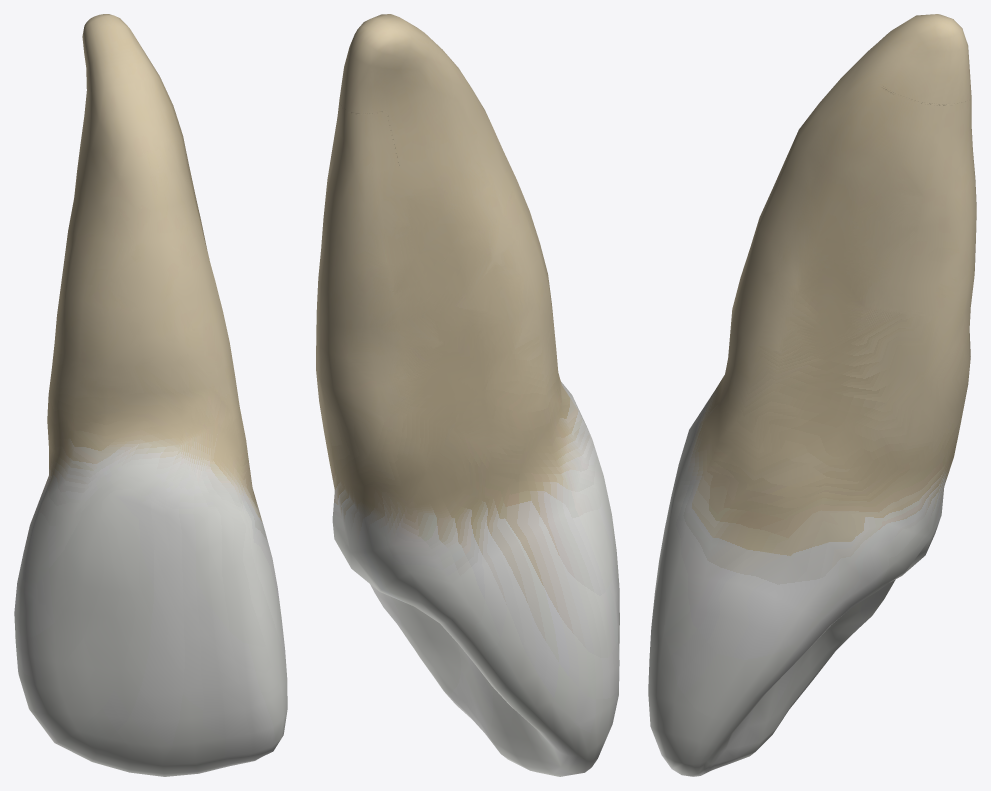
The model's file is tooth-12.glb.
3 views of the same model, side by side, from view 1: azimuth 30°, elevation 25°; view 2: azimuth 150°, elevation 25°; view 3: azimuth 270°, elevation 25° (orthographic). The views are drawn at different scales.
Parts seen in each view (by area): view 1: polySurface4_blinn14_0; view 2: polySurface4_blinn14_0; view 3: polySurface4_blinn14_0.
Boxes of the visible parts, left/top/right/bottom form: polySurface4_blinn14_0: left=14, top=14, right=287, bottom=776; polySurface4_blinn14_0: left=316, top=14, right=619, bottom=776; polySurface4_blinn14_0: left=648, top=14, right=976, bottom=776.
Bounding box in the file's own units: 0.241 × 0.7169 × 0.2824.
1 material, 1 textured.
